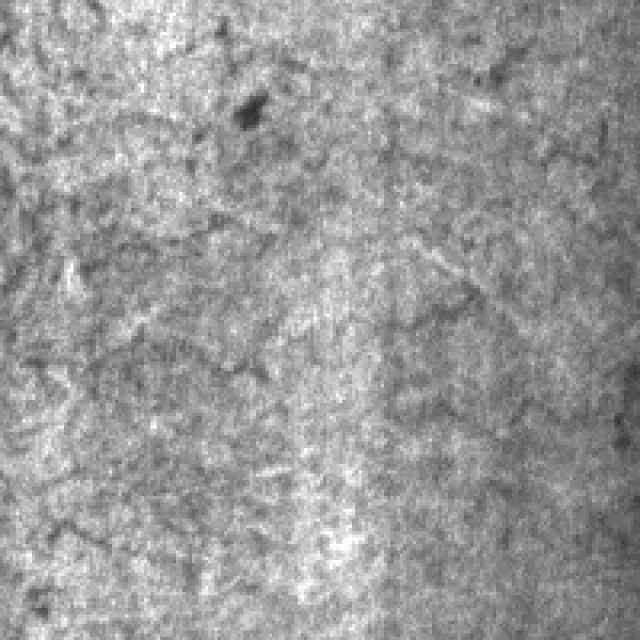crazing: (29, 317, 269, 598), (356, 282, 630, 454)
